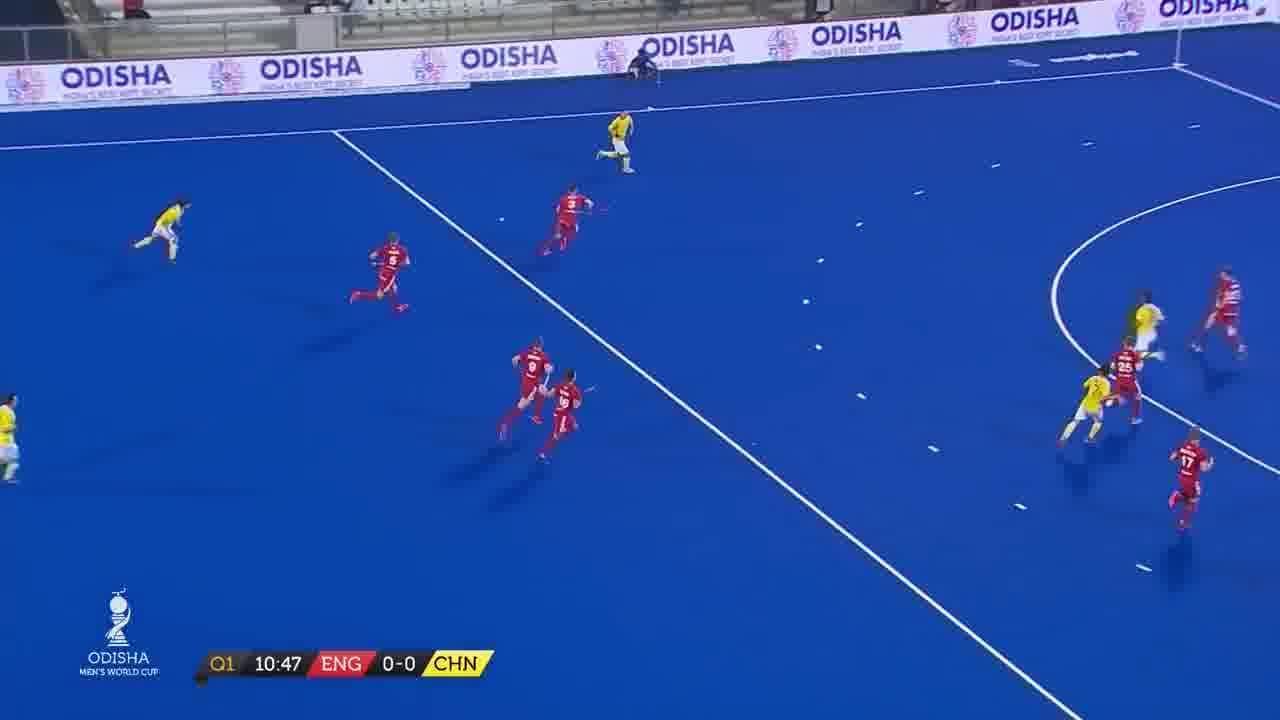ball: (497, 213, 508, 226)
